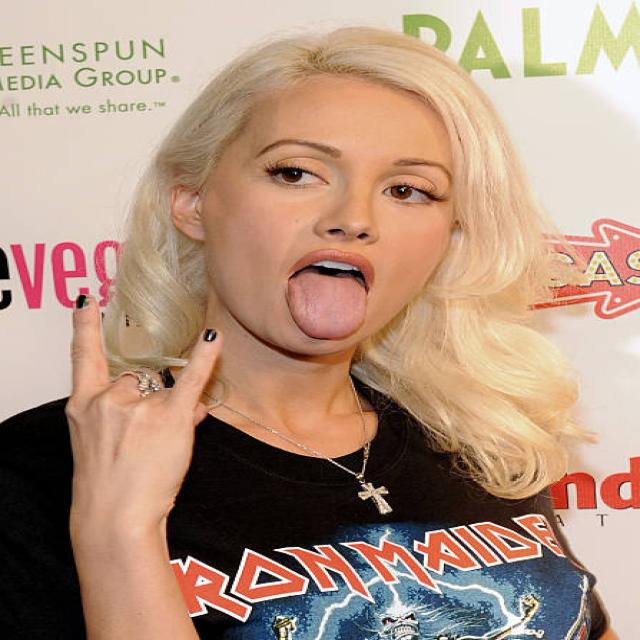tongue: (293, 274, 371, 343)
